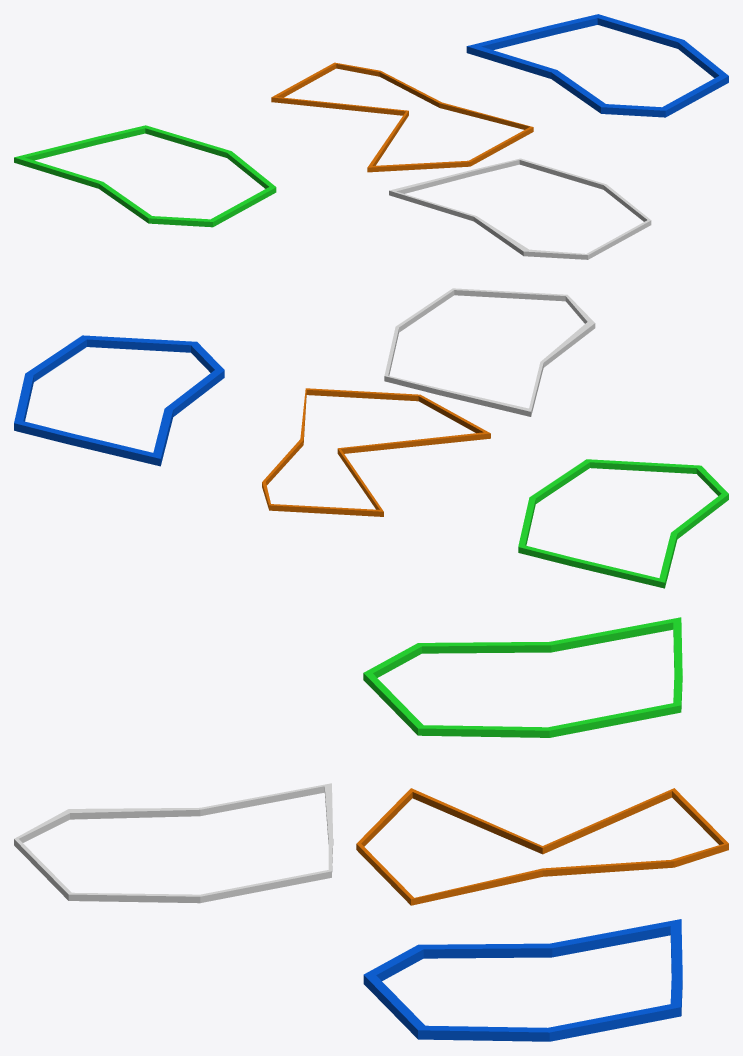
The model's file is RubberBands 1.fbx.
3 views of the same model, one above another, from view 1: azimuth 30°, elevation 25°; view 2: azimuth 150°, elevation 25°; view 3: azimuth 270°, elevation 25° (orthographic). The views are drawn at different scales.
Visible parts, largest first — view 1: rubber bands.005, rubber bands.004, rubber bands.002, rubber bands.001, rubber bands.003; view 2: rubber bands.005, rubber bands.004, rubber bands.002, rubber bands.001; view 3: rubber bands.005, rubber bands.004, rubber bands.001, rubber bands.002, rubber bands.003.
Part boxes in pixels (<box>): rubber bands.005: <box>466,14,728,117</box>; rubber bands.004: <box>14,125,276,227</box>; rubber bands.002: <box>271,62,533,172</box>; rubber bands.001: <box>389,158,651,259</box>; rubber bands.003: <box>324,65,482,165</box>; rubber bands.005: <box>14,335,224,466</box>; rubber bands.004: <box>518,459,728,588</box>; rubber bands.002: <box>262,388,490,516</box>; rubber bands.001: <box>384,288,595,416</box>; rubber bands.005: <box>363,919,682,1041</box>; rubber bands.004: <box>363,617,682,737</box>; rubber bands.001: <box>14,783,333,903</box>; rubber bands.002: <box>356,788,728,905</box>; rubber bands.003: <box>356,793,728,880</box>.
Bounding box in the file's own units: 58.09 × 0.6035 × 42.16.
